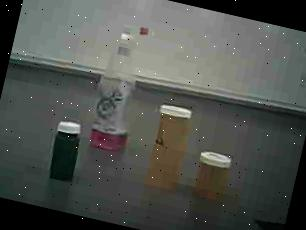Bottle A: (139, 100, 200, 197)
Bottle B: (188, 146, 238, 208)
Bottle C: (43, 117, 88, 186)
hazard: (83, 15, 164, 162)
